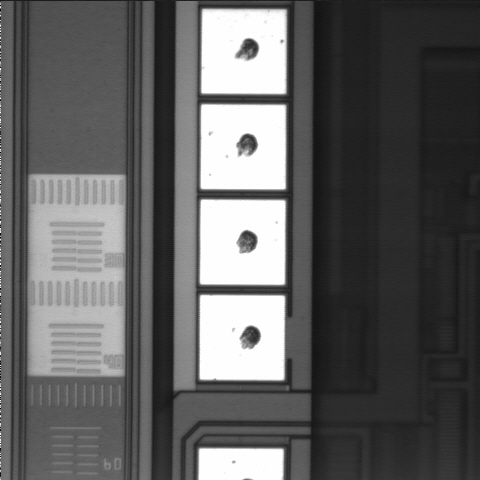pad: (201, 9, 286, 94), (201, 104, 286, 189), (200, 200, 285, 285), (200, 295, 285, 380)
